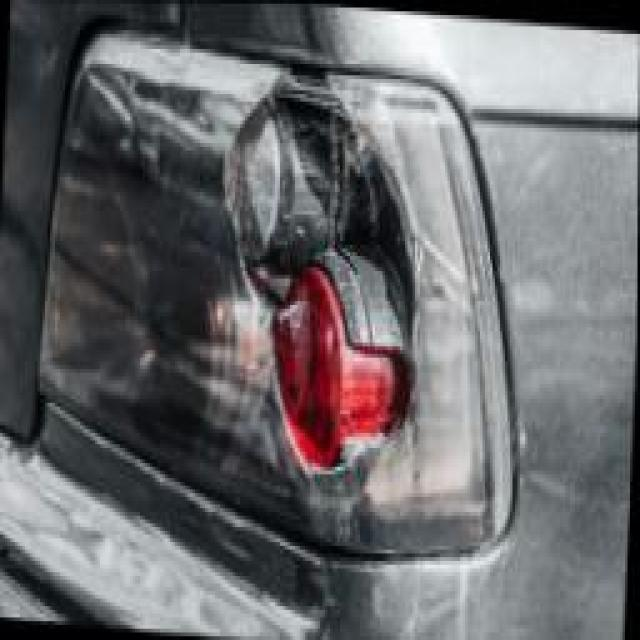Light: (52, 26, 496, 542)
